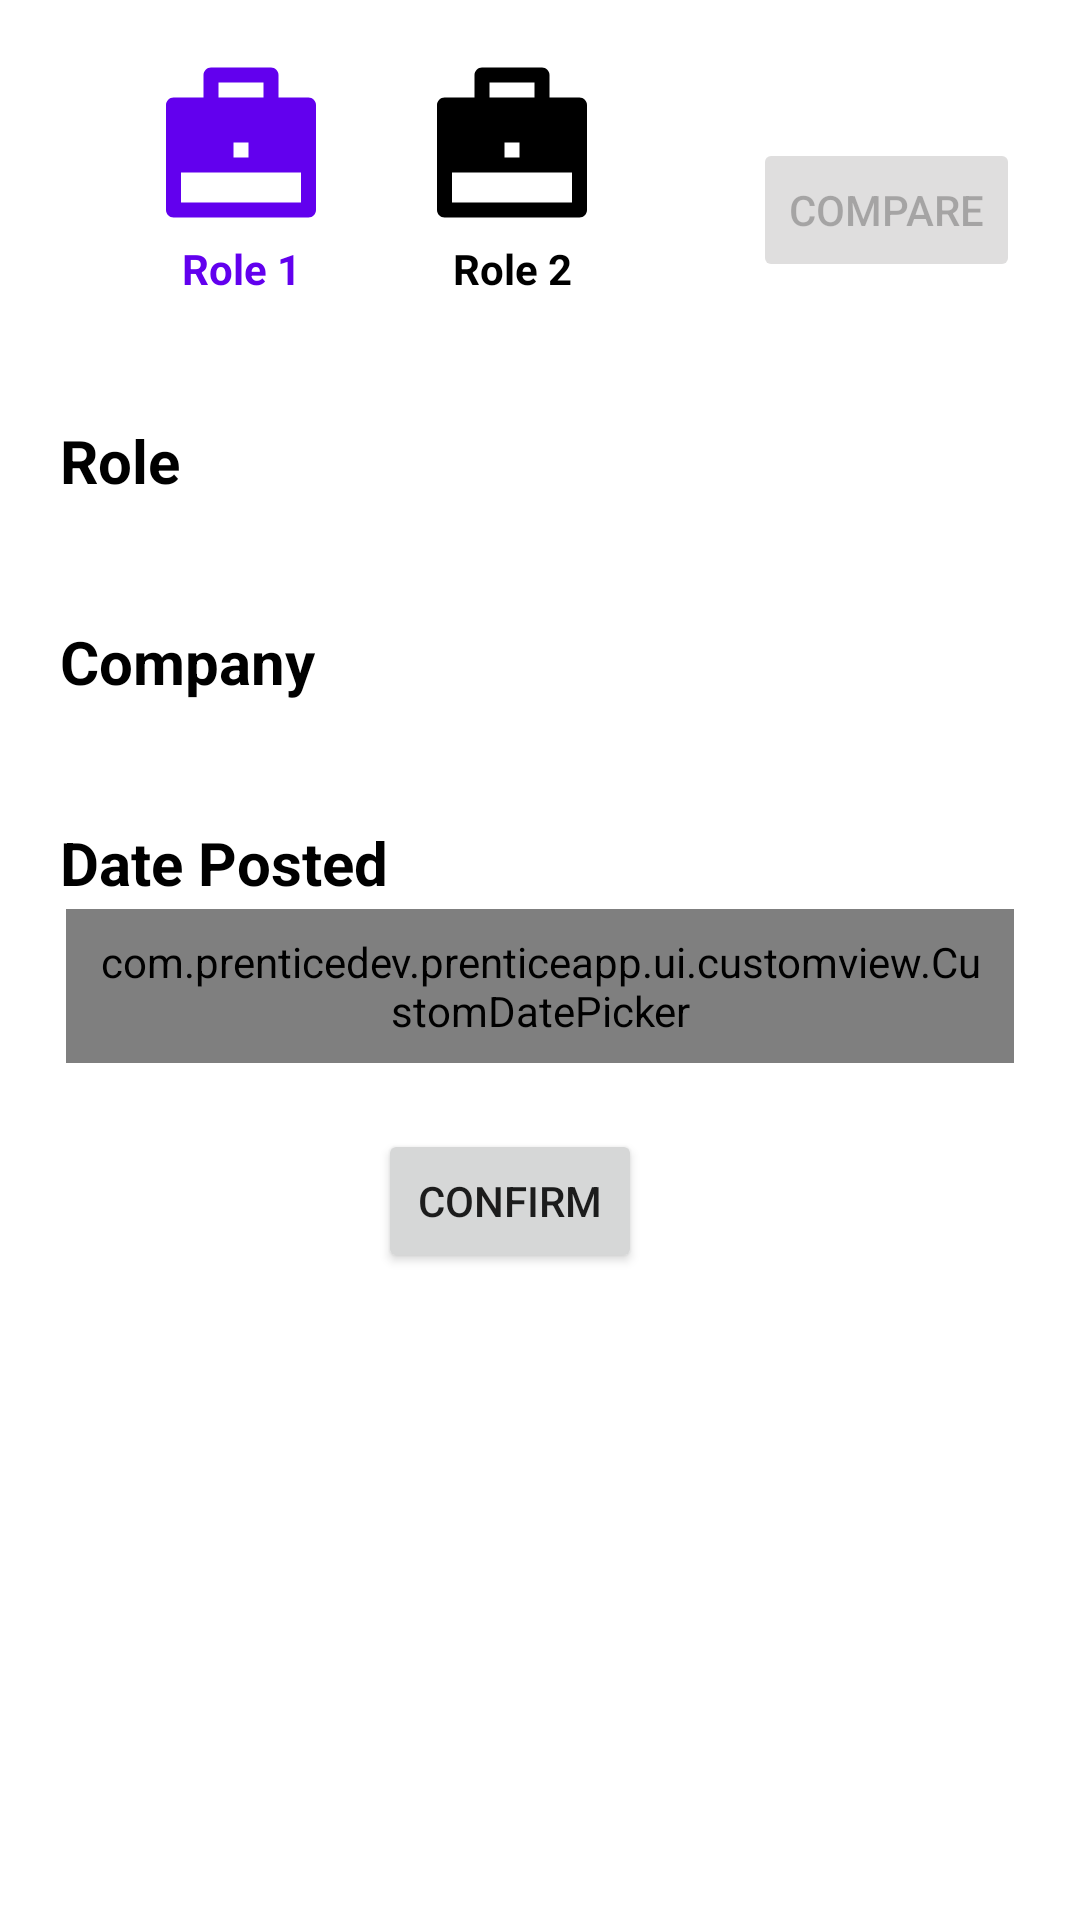

Where to tap for icons on this 1080 × 1920 app screen, as point (x, y):
jobs: point (241, 142), point (512, 142)
